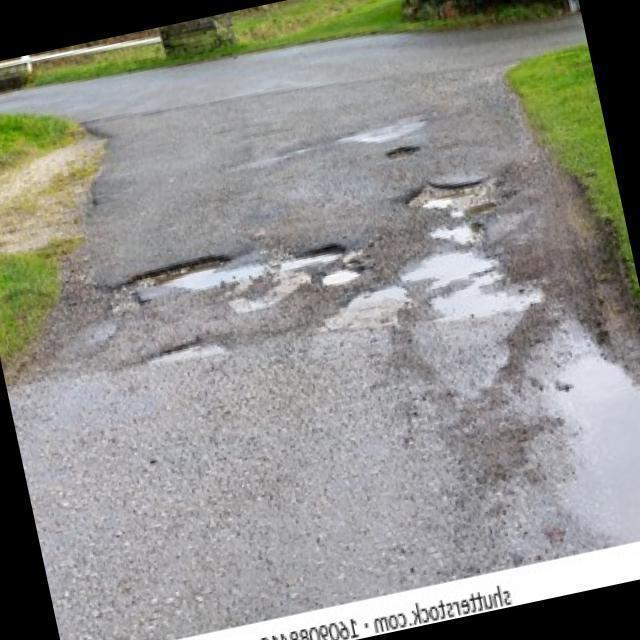pothole: (118, 227, 350, 307), (401, 163, 517, 227), (141, 332, 234, 374), (318, 259, 369, 294), (384, 139, 423, 163)
